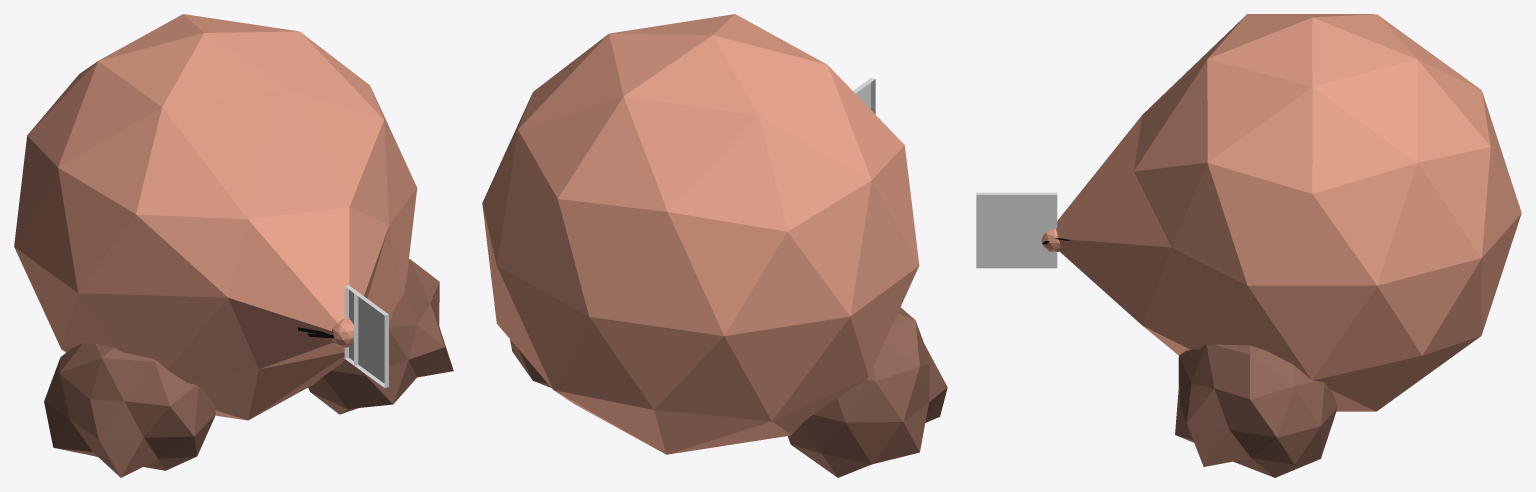
File: Mole.fbx
3 renders of one model, left to right at view 1: azimuth 30°, elevation 25°; view 2: azimuth 150°, elevation 25°; view 3: azimuth 270°, elevation 25°, orthographic. The views are drawn at different scales.
Parts seen in each view (by area): view 1: Icosphere.001, Icosphere.002, Cube; view 2: Icosphere.001, Icosphere.002; view 3: Icosphere.001, Icosphere.002, Cube.
Part boxes in pixels (x1=…): Icosphere.001: x1=14, y1=14, x2=417, y2=420; Icosphere.002: x1=44, y1=259, x2=453, y2=477; Cube: x1=344, y1=285, x2=388, y2=387; Icosphere.001: x1=482, y1=14, x2=919, y2=454; Icosphere.002: x1=510, y1=307, x2=947, y2=477; Icosphere.001: x1=1041, y1=14, x2=1521, y2=411; Icosphere.002: x1=1175, y1=344, x2=1337, y2=477; Cube: x1=976, y1=192, x2=1057, y2=268.
Size of the model in its own units: 87.91 by 85.44 by 107.
